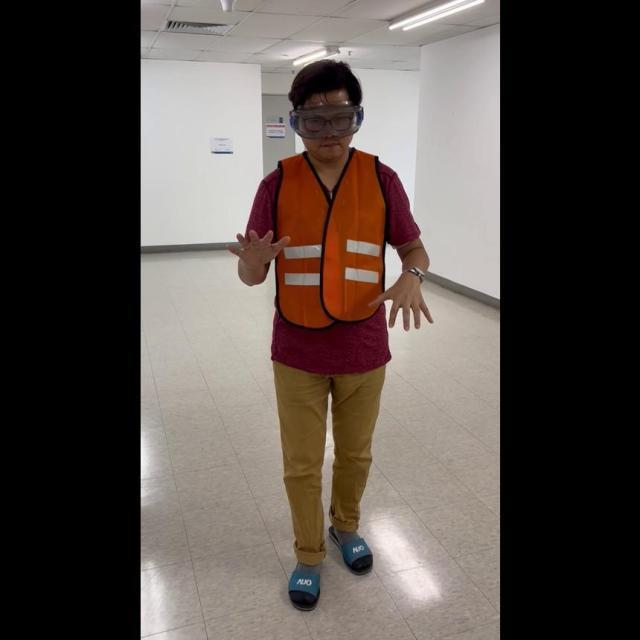bare_hand: (370, 269, 435, 330), (227, 223, 289, 269)
